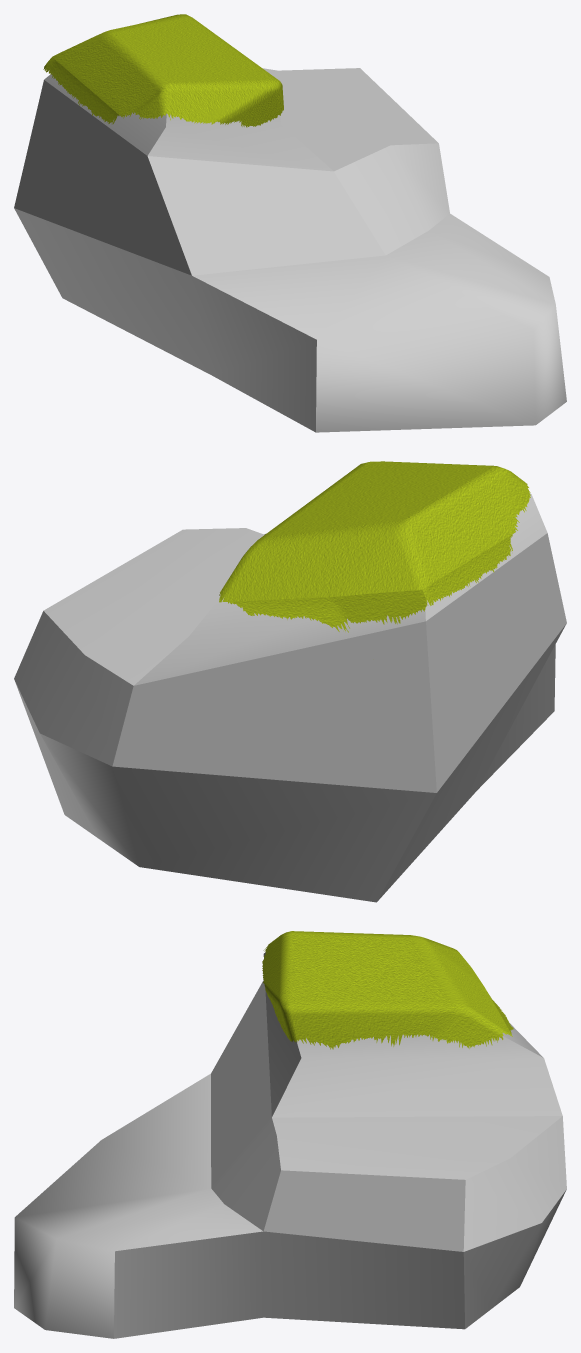
Rendered from beachRock0.fbx.
3 renders of one model, top to bottom at view 1: azimuth 30°, elevation 25°; view 2: azimuth 150°, elevation 25°; view 3: azimuth 270°, elevation 25°, orthographic. The views are drawn at different scales.
Visible parts, largest first — view 1: rockModel_geo, grassPlane_geo; view 2: rockModel_geo, grassPlane_geo; view 3: rockModel_geo, grassPlane_geo.
Boxes of the visible parts, x1,y1,x2,y2 form: rockModel_geo: (14, 68, 566, 432); grassPlane_geo: (43, 14, 283, 127); rockModel_geo: (14, 493, 566, 902); grassPlane_geo: (219, 461, 530, 632); rockModel_geo: (14, 952, 566, 1338); grassPlane_geo: (262, 931, 513, 1049).
Size of the model in its own units: 9.31 by 7.09 by 13.
